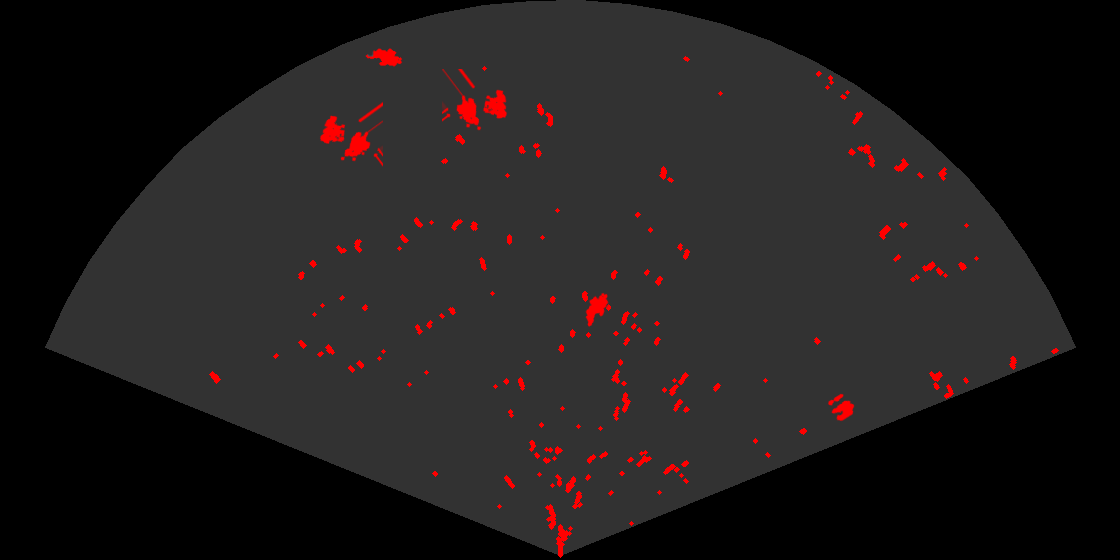AUV: (584, 291, 610, 329), (364, 47, 404, 68)
ball: (826, 392, 856, 423)
cage: (318, 100, 383, 168), (442, 69, 509, 132)
